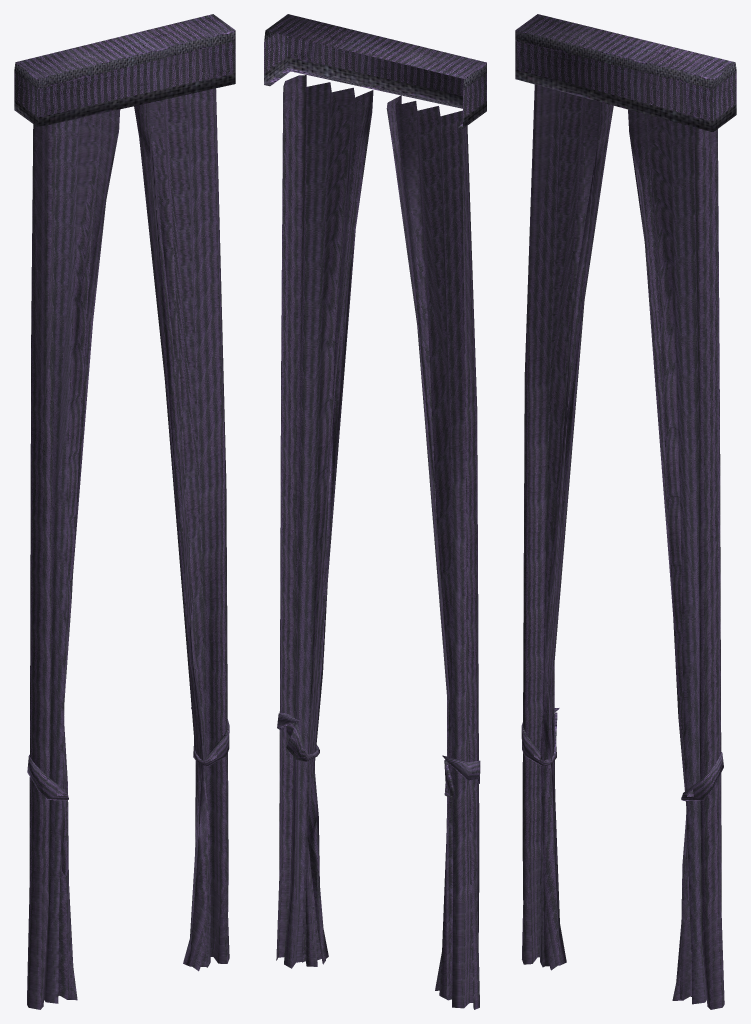
File: Curtain_Supertall.fbx
3 views of the same model, side by side, from view 1: azimuth 30°, elevation 25°; view 2: azimuth 150°, elevation 25°; view 3: azimuth 330°, elevation 25° (orthographic).
Visible parts, largest first — view 1: BetterCurtain.002; view 2: BetterCurtain.002; view 3: BetterCurtain.002.
Part boxes in pixels (x1=…): BetterCurtain.002: x1=14, y1=14, x2=235, y2=1009; BetterCurtain.002: x1=264, y1=14, x2=486, y2=1009; BetterCurtain.002: x1=515, y1=14, x2=736, y2=1009.
Size of the model in its own units: 220 by 980 by 48.8.
